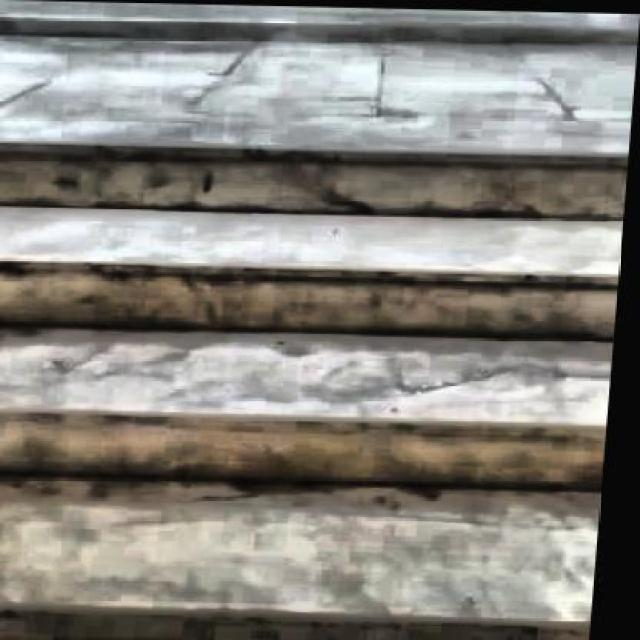stair: (0, 134, 631, 638)
